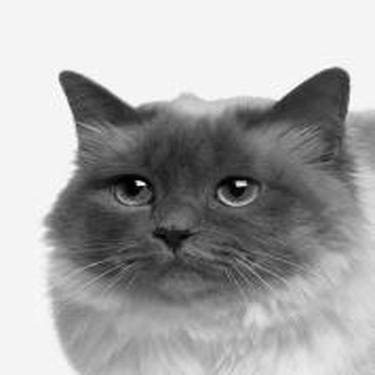cat: (45, 71, 369, 372)
